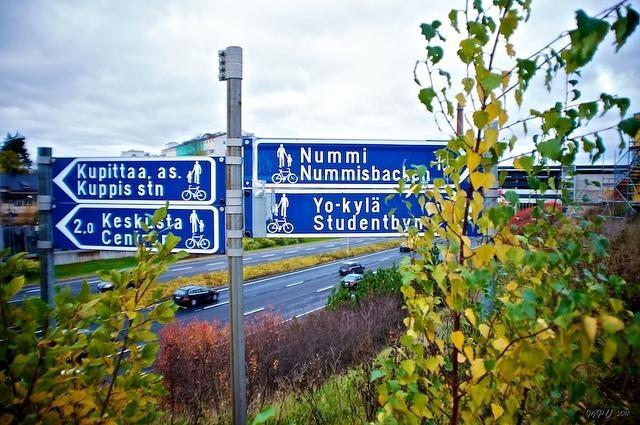car: (96, 267, 146, 292), (172, 284, 220, 308), (338, 262, 366, 276), (343, 274, 362, 290), (400, 240, 413, 252)
